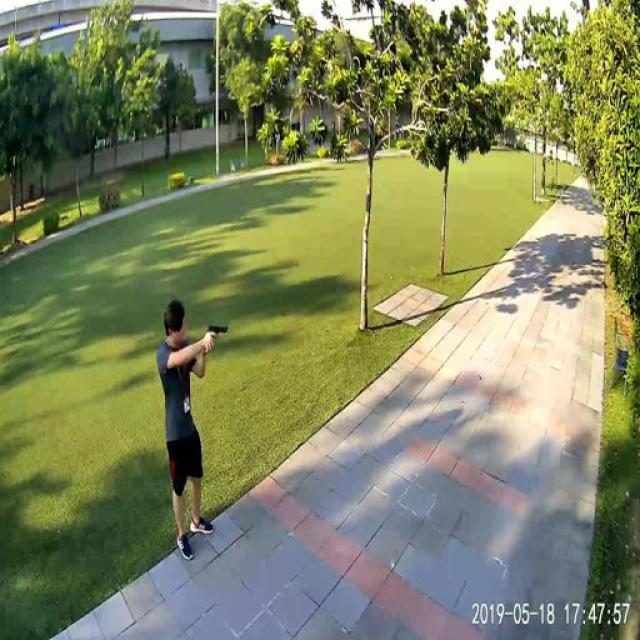weapon: (205, 324, 231, 348)
